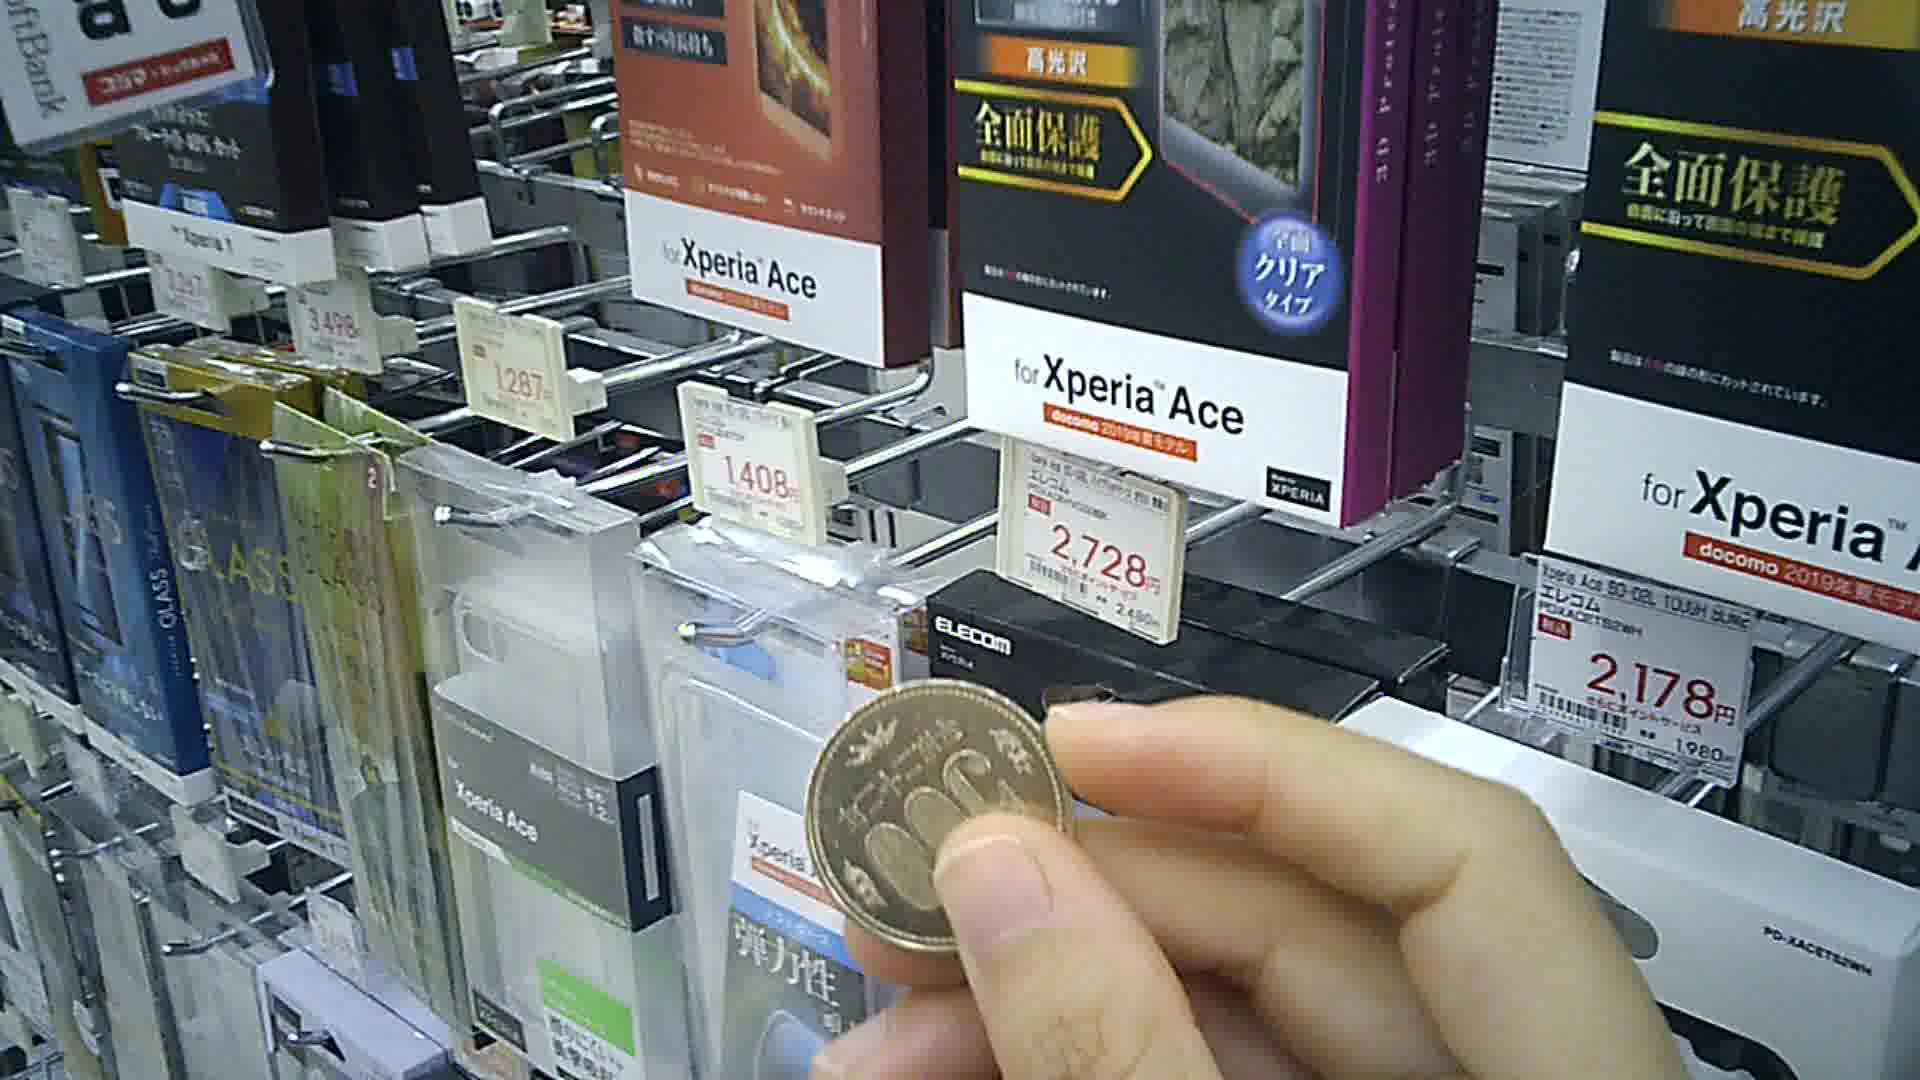500 Yen: (799, 679, 1084, 953)
